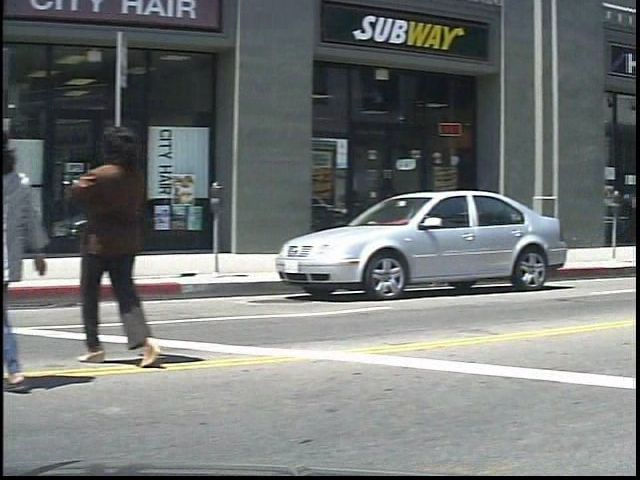person: (82, 121, 183, 371), (0, 115, 82, 389)
